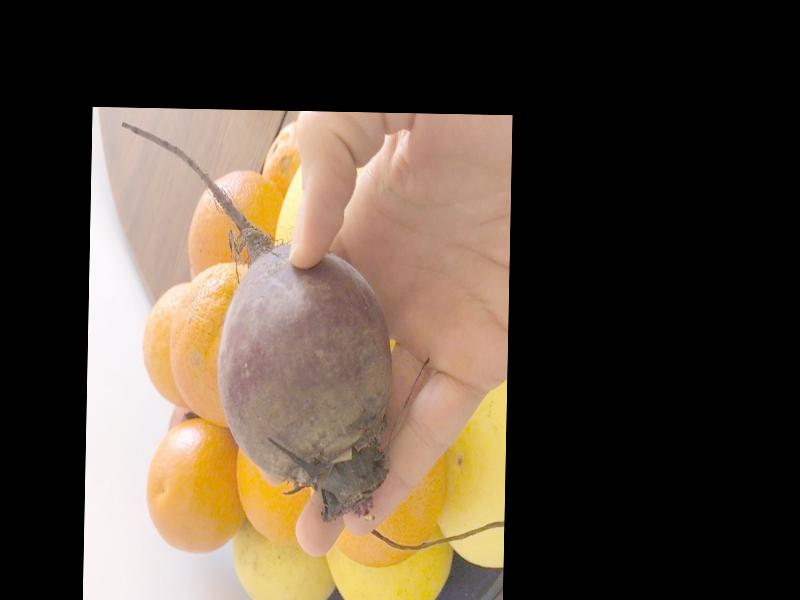Beet: (113, 122, 396, 516)
